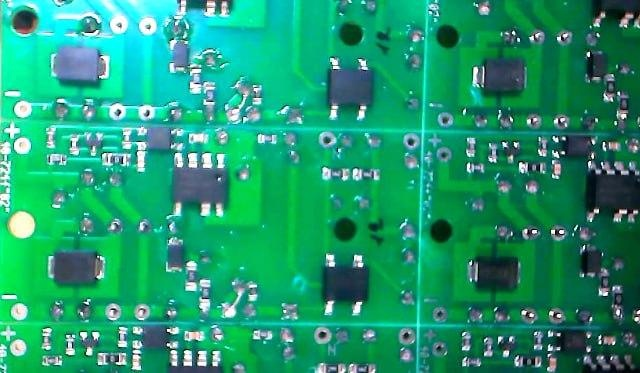chip-capacitor: (183, 330, 205, 342), (130, 349, 142, 371), (188, 132, 209, 144), (601, 140, 622, 152), (597, 334, 617, 346), (551, 159, 562, 180), (546, 353, 558, 372), (136, 151, 146, 173)
chip-resistor: (100, 151, 131, 168), (320, 165, 350, 182), (96, 351, 128, 366), (517, 160, 547, 176), (615, 89, 630, 120), (352, 166, 381, 182), (189, 64, 203, 96), (202, 80, 217, 108), (513, 354, 542, 368), (603, 73, 616, 102), (317, 361, 347, 373), (185, 260, 198, 287), (611, 285, 625, 310), (348, 361, 377, 373), (199, 278, 211, 304), (487, 141, 500, 164), (251, 84, 264, 106), (46, 153, 68, 166), (256, 132, 278, 145), (465, 136, 478, 158), (460, 330, 473, 352), (121, 127, 133, 150), (537, 135, 549, 158), (599, 271, 611, 294), (41, 326, 52, 351), (465, 161, 486, 174), (117, 326, 129, 348), (461, 356, 483, 368), (65, 333, 76, 356), (45, 127, 56, 149), (69, 134, 80, 156), (41, 355, 63, 366), (483, 336, 494, 358), (533, 330, 544, 352), (252, 329, 273, 340), (247, 282, 258, 302)
diode: (48, 45, 113, 85), (46, 249, 107, 287), (470, 56, 529, 95), (465, 254, 523, 292), (578, 243, 603, 279), (167, 38, 190, 74), (585, 48, 606, 83), (165, 236, 184, 273)
ic: (171, 150, 230, 220), (585, 157, 640, 225), (325, 55, 374, 124), (320, 252, 371, 317), (136, 125, 186, 153), (550, 133, 597, 160), (131, 325, 181, 350), (545, 328, 593, 354)
transistor: (78, 329, 100, 358), (83, 131, 104, 157), (500, 139, 521, 164), (496, 335, 517, 358)
